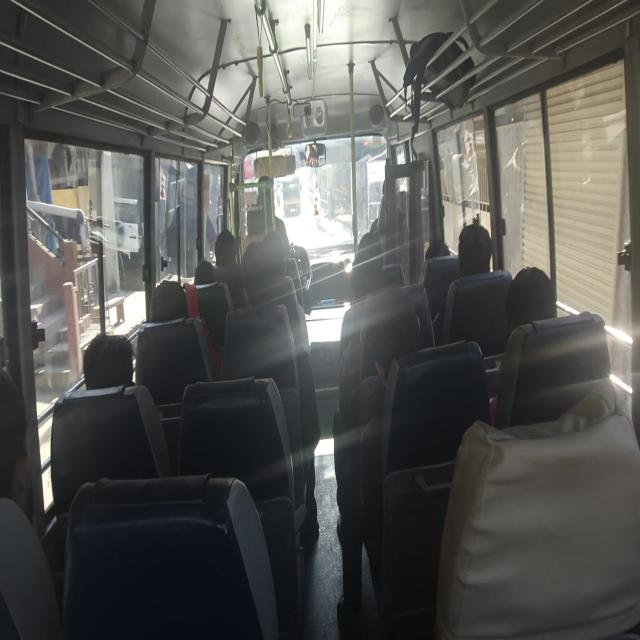person: (0, 360, 43, 545), (368, 284, 429, 362), (506, 259, 556, 333), (80, 333, 140, 393), (146, 270, 201, 327), (458, 215, 497, 280), (243, 242, 273, 310), (342, 262, 393, 299), (260, 230, 292, 285), (189, 254, 218, 308), (252, 168, 284, 216), (213, 226, 241, 274), (356, 230, 388, 261), (378, 171, 407, 204), (424, 239, 455, 267)
